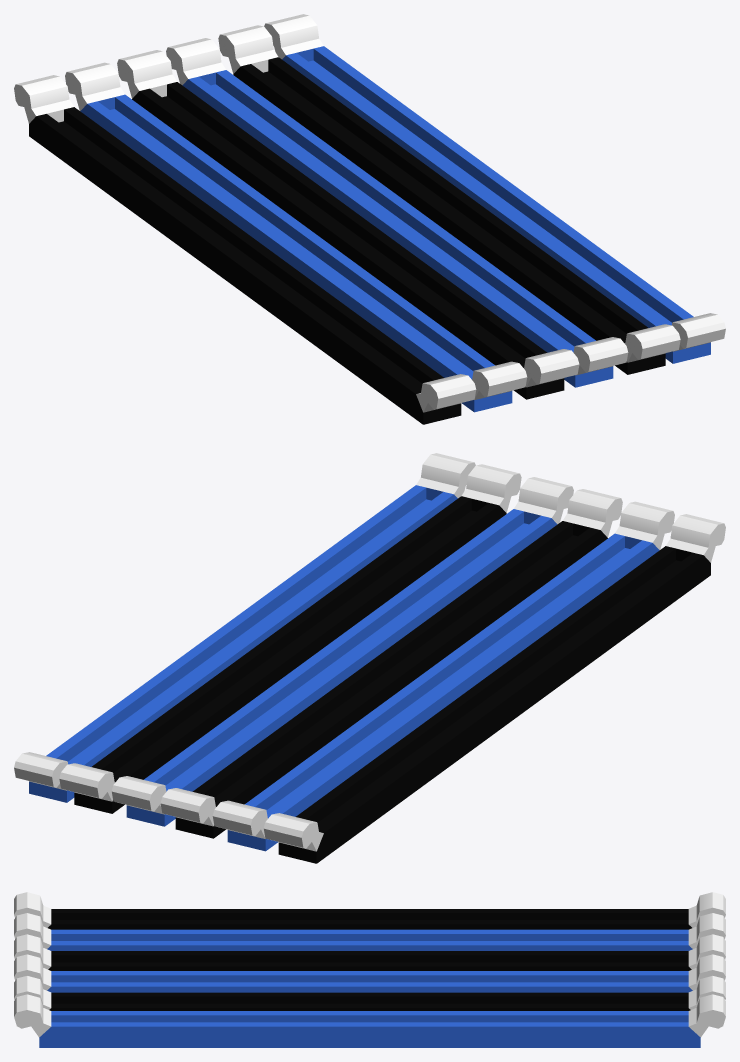
File: RAM_1.fbx
3 renders of one model, top to bottom at view 1: azimuth 30°, elevation 25°; view 2: azimuth 150°, elevation 25°; view 3: azimuth 270°, elevation 25°, orthographic. The views are drawn at different scales.
Visible parts, largest first — view 1: RAM_1; view 2: RAM_1; view 3: RAM_1.
Part boxes in pixels (bbox=[...]): RAM_1: bbox=[14, 14, 725, 424]; RAM_1: bbox=[14, 453, 725, 863]; RAM_1: bbox=[14, 892, 725, 1047].
Bounding box in the file's own units: 3152 × 474 × 8051.
